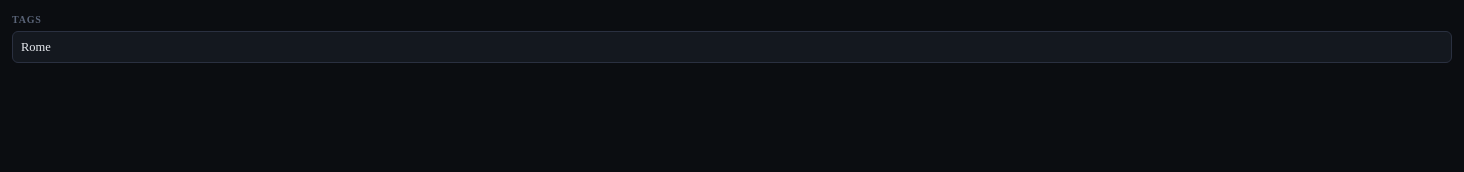
Test: timeline tag suggestions › completes zwingli immediately and preserves existing comma-separated tags
Replace the text in the dropdown with "Rome, z" at (732, 47), box [12,31,1452,63]
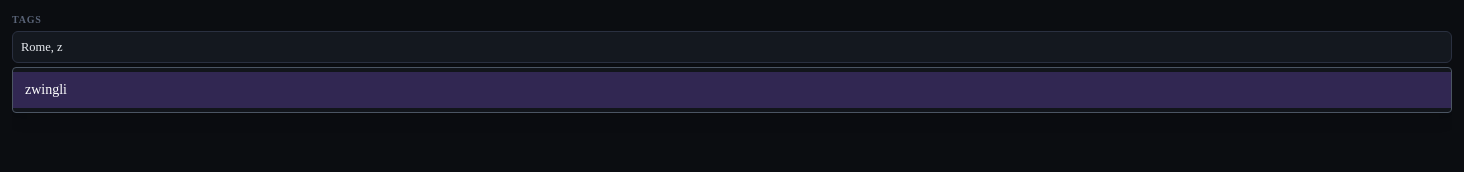
Press Enter in the dropdown, box [12,31,1452,63]
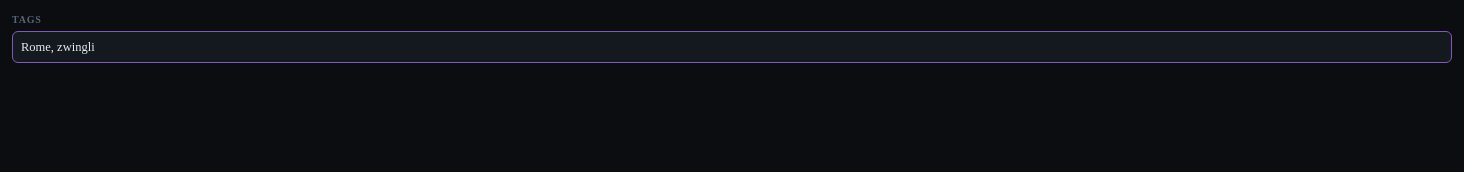
Now the dropdown holds "Rome, zwingli", box [12,31,1452,63]
